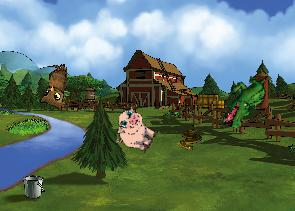crocodile: (220, 67, 270, 134)
owl: (39, 63, 67, 110)
pig: (108, 104, 163, 157)
